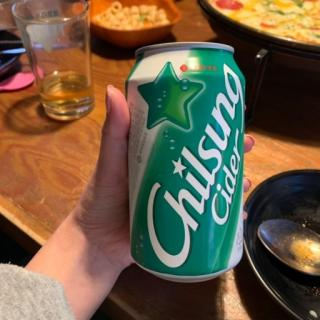cocacola: (126, 40, 246, 279)
